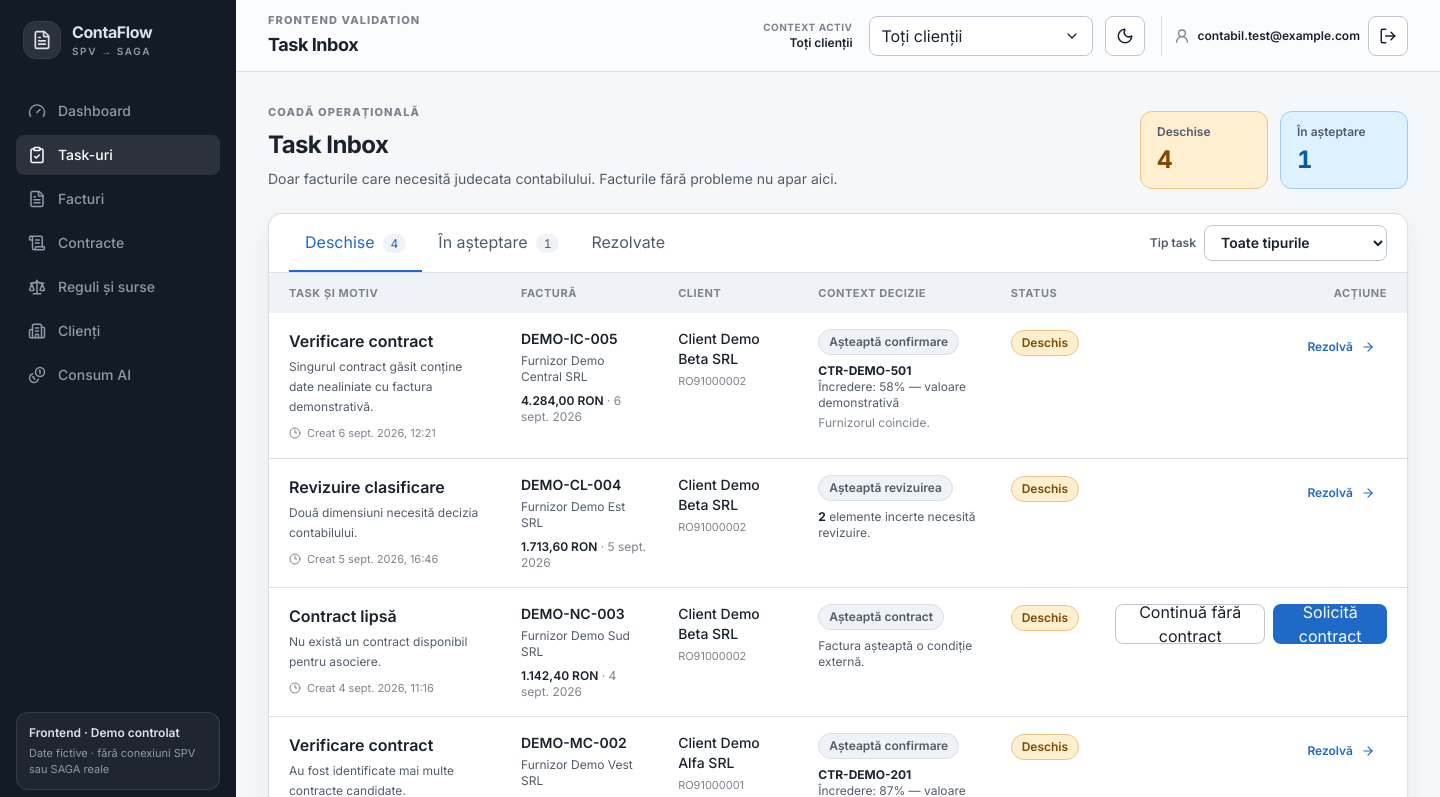
Test case: Task Inbox › scopes tasks when a client is selected
The image size is (1440, 797).
What coordinates should you click on to do the following:
click the dropdown named "Selectează clientul"
I would click on:
 (980, 36)
Its box is top-left (868, 16), bottom-right (1092, 56).
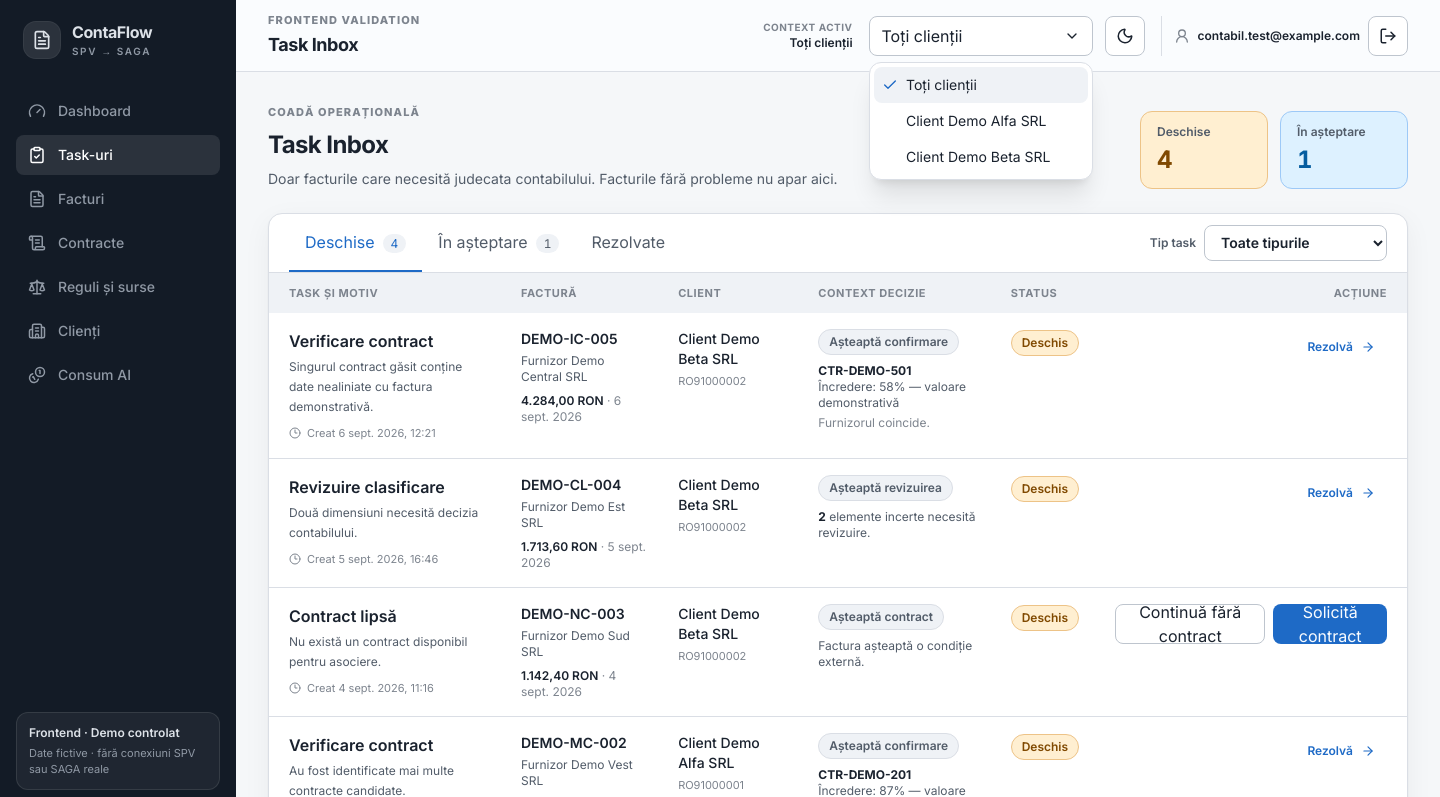
What coordinates should you click on to do the following:
click the option "Client Demo Alfa SRL"
I would click on:
 (976, 120)
Its box is top-left (906, 112), bottom-right (1046, 129).
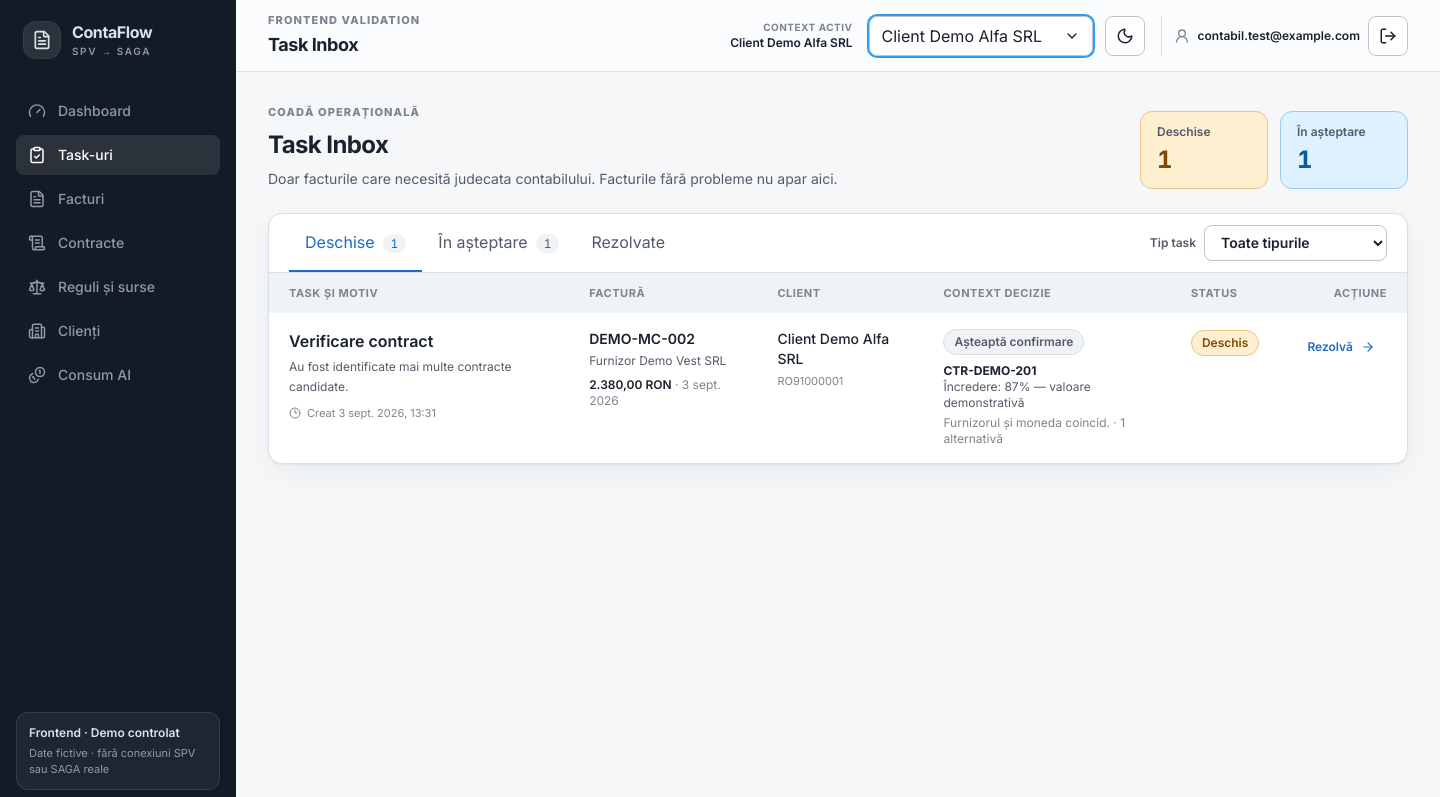
Now the text with test id "active-scope" reads "Client Demo Alfa SRL", box top-left (730, 35), bottom-right (853, 50)
Now the text "Client Demo Beta SRL" is gone
